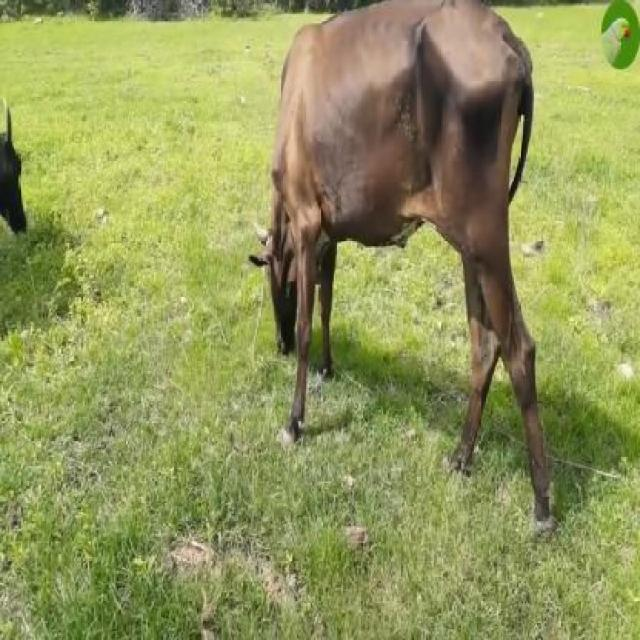Cow: (248, 0, 555, 525)
